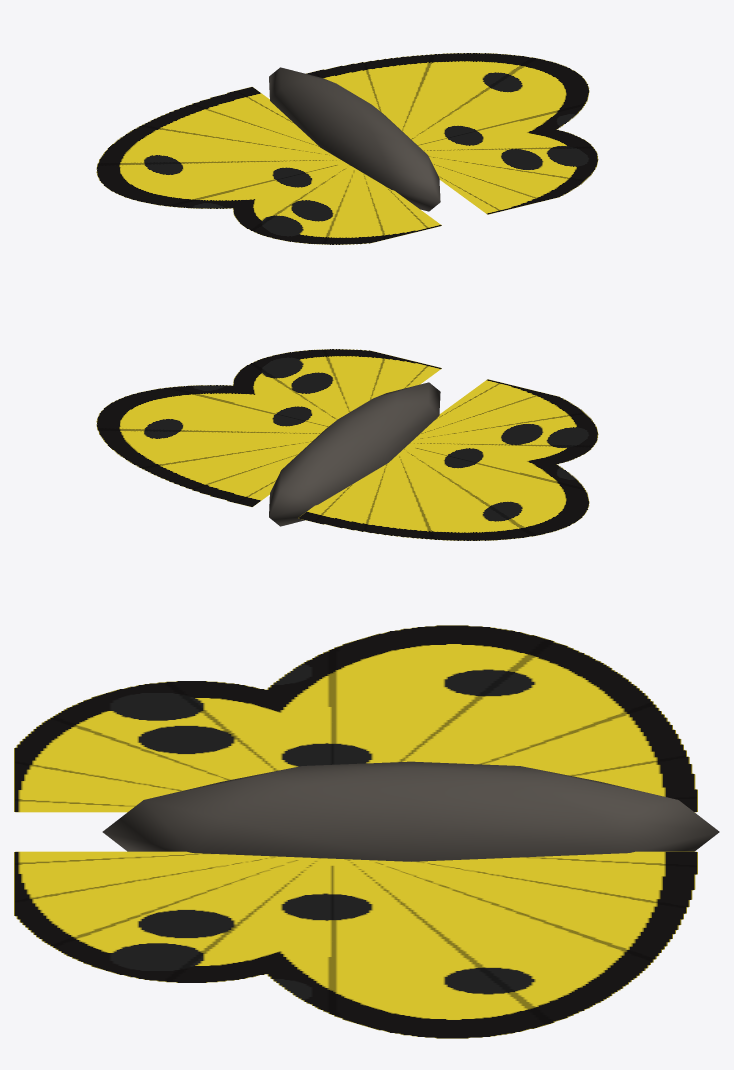
Rendered from Butterfly_Yellow.glb.
3 views of the same model, one above another, from view 1: azimuth 30°, elevation 25°; view 2: azimuth 150°, elevation 25°; view 3: azimuth 270°, elevation 25° (orthographic). The views are drawn at different scales.
Parts seen in each view (by area): view 1: WingL, WingR, Butterfly_Yellow; view 2: WingL, WingR, Butterfly_Yellow; view 3: WingR, WingL, Butterfly_Yellow.
Part boxes in pixels (box(x1,y1,x2,y2)): WingL: box(96, 87, 441, 244); WingR: box(306, 53, 598, 214); Butterfly_Yellow: box(269, 67, 440, 211); WingL: box(298, 379, 598, 540); WingR: box(96, 349, 441, 506); Butterfly_Yellow: box(269, 382, 440, 526); WingR: box(14, 851, 697, 1038); WingL: box(14, 625, 697, 812); Butterfly_Yellow: box(102, 761, 719, 861).
Size of the model in its own units: 0.12 by 0.016 by 0.08.
Materials: 2 (1 with a texture image).
